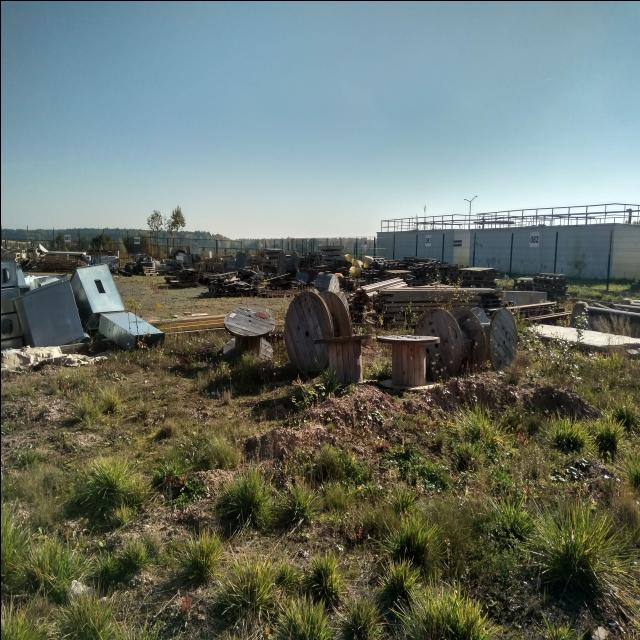entulho: (283, 287, 350, 372), (15, 276, 90, 344), (416, 305, 484, 367), (527, 320, 640, 357), (70, 264, 126, 336), (373, 330, 440, 390), (378, 286, 500, 318), (314, 329, 371, 384), (99, 302, 165, 343), (225, 305, 272, 359), (480, 304, 517, 368), (351, 278, 405, 315), (0, 256, 19, 338), (208, 268, 256, 296), (28, 252, 84, 273), (534, 272, 570, 296), (318, 243, 351, 269), (460, 265, 497, 287), (167, 242, 199, 266), (263, 247, 287, 277), (300, 248, 326, 272), (167, 268, 200, 286), (276, 251, 298, 276), (198, 249, 224, 270), (346, 258, 372, 278), (512, 275, 536, 293), (315, 272, 339, 290), (222, 252, 246, 268), (386, 268, 412, 282), (370, 255, 396, 268), (440, 264, 460, 280), (130, 252, 150, 268), (411, 266, 428, 284), (397, 255, 421, 264), (140, 266, 158, 274)
